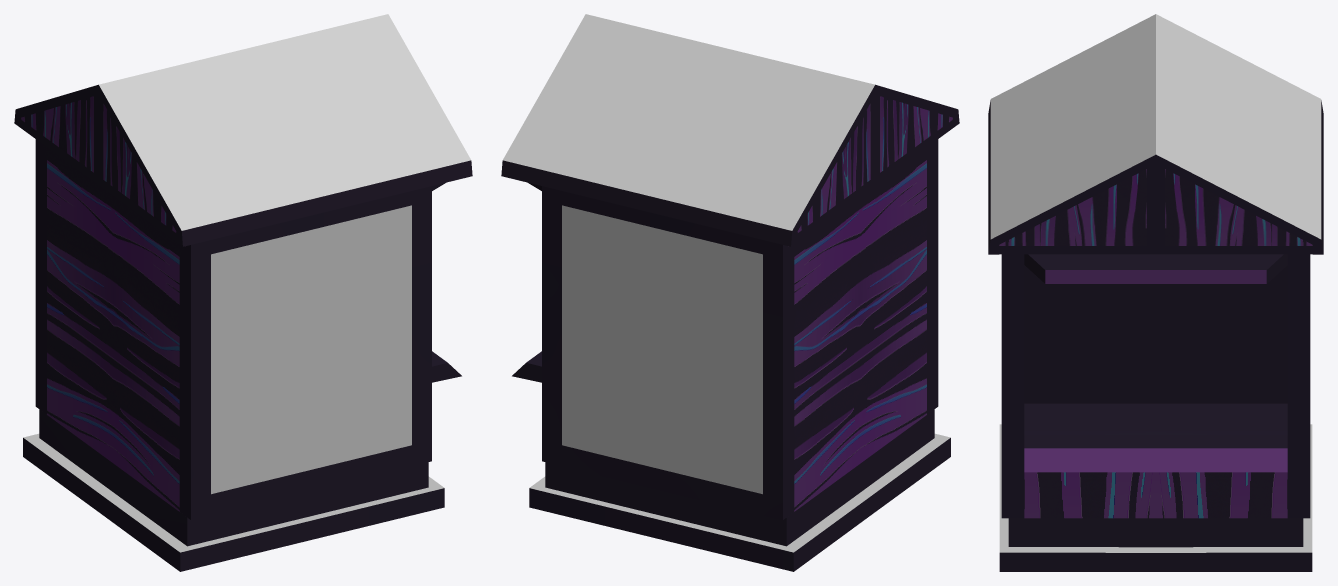
Rendered from Booth.fbx.
3 renders of one model, left to right at view 1: azimuth 30°, elevation 25°; view 2: azimuth 150°, elevation 25°; view 3: azimuth 270°, elevation 25°, orthographic.
Parts seen in each view (by area): view 1: Cube; view 2: Cube; view 3: Cube.
Part boxes in pixels (x1=…): Cube: x1=14, y1=14, x2=472, y2=571; Cube: x1=501, y1=14, x2=959, y2=571; Cube: x1=988, y1=14, x2=1323, y2=571.
Bounding box in the file's own units: 134 × 132 × 186.
